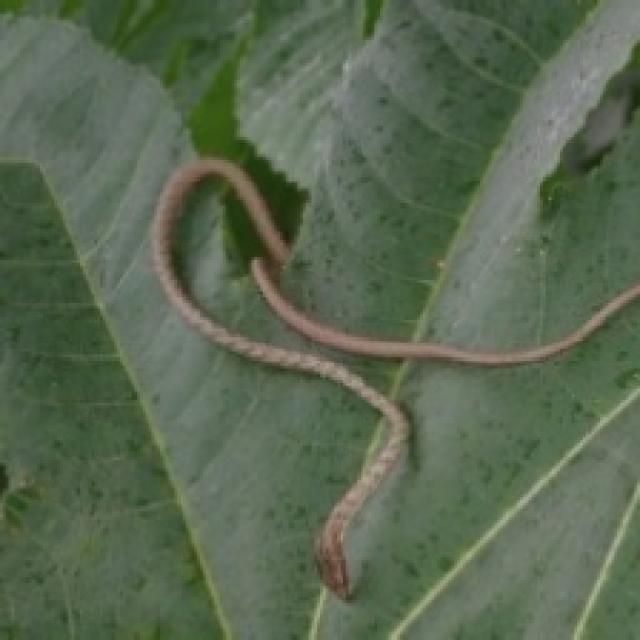philippine whip snake: (151, 157, 406, 597), (251, 257, 637, 366)
